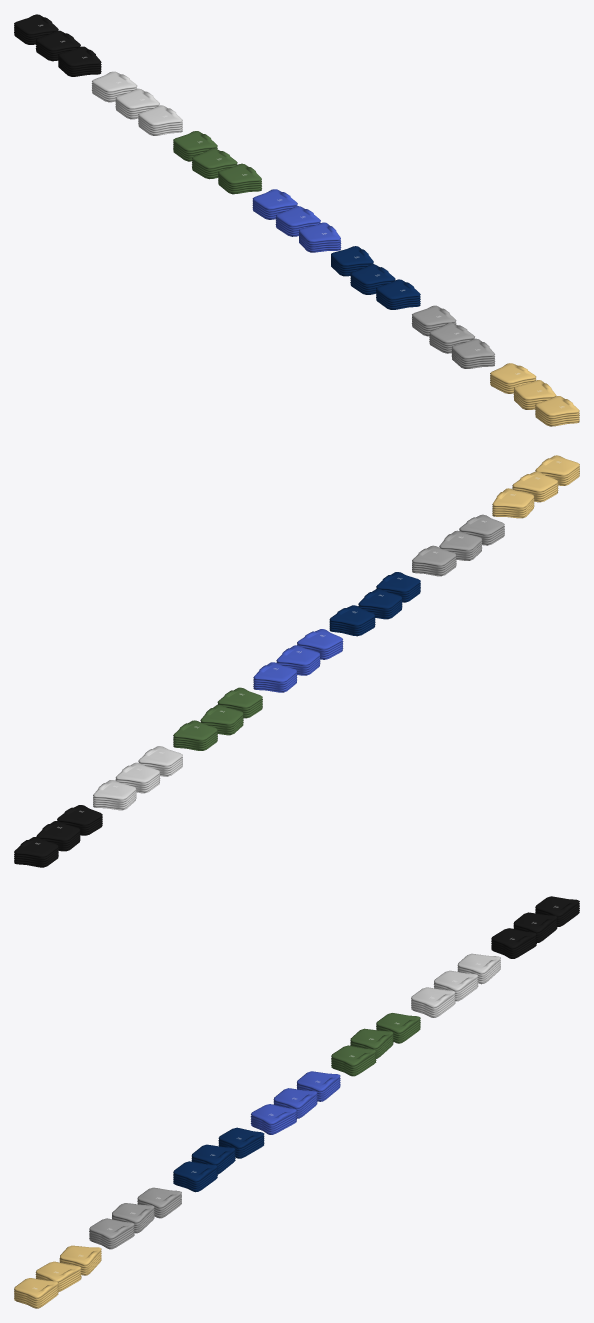
File: Stacked Shirts.glb
3 views of the same model, one above another, from view 1: azimuth 30°, elevation 25°; view 2: azimuth 150°, elevation 25°; view 3: azimuth 330°, elevation 25° (orthographic).
Visible parts, largest first — view 1: Stacked Shirts; view 2: Stacked Shirts; view 3: Stacked Shirts.
Boxes of the visible parts, left/top/right/bottom form: Stacked Shirts: left=14, top=14, right=579, bottom=426; Stacked Shirts: left=14, top=455, right=579, bottom=867; Stacked Shirts: left=14, top=896, right=579, bottom=1308.
Bounding box in the file's own units: 0.6362 × 0.2307 × 16.37.
Materials: 2 (2 with a texture image).
